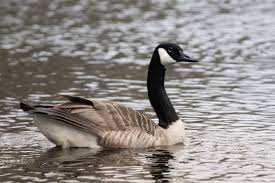goose: (15, 41, 202, 159)
